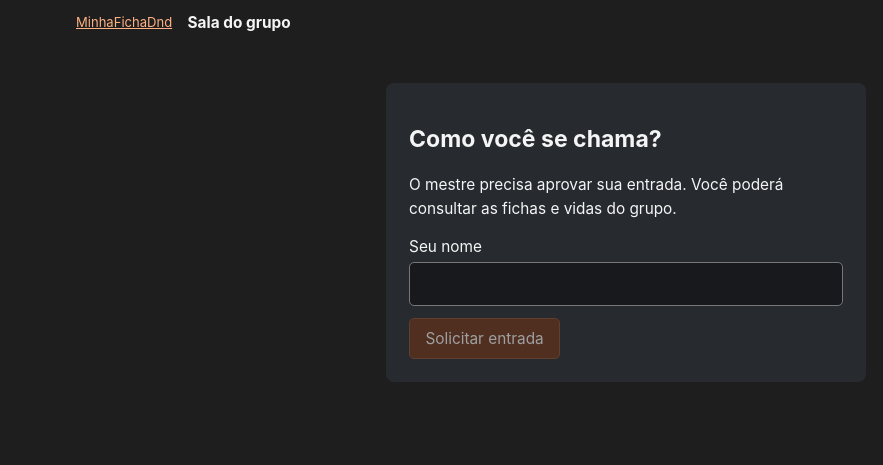
Test: nome cria solicitação; só carrega o grupo após aprovação e limpa após revogação
The width and height of the screenshot is (883, 465).
Later steps or results of the test are not shown.
Step 1. Type "Lia" into the field labelled "Seu nome" → (626, 284), box [409, 262, 843, 306]
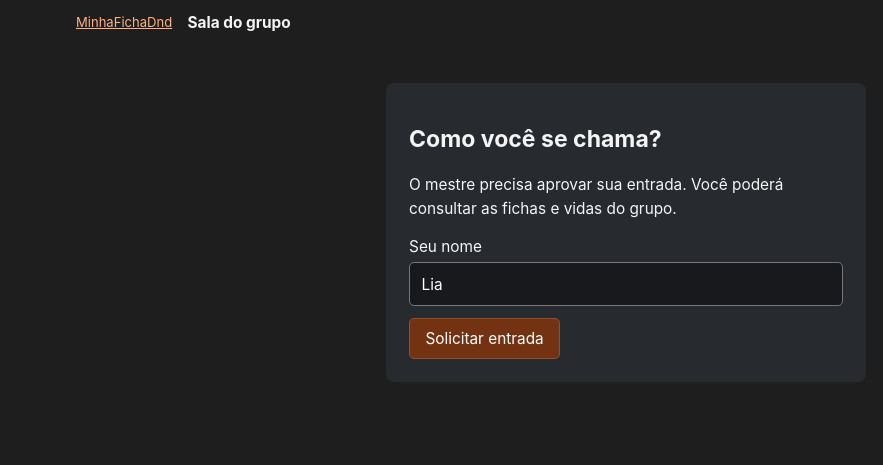
Step 2. Click the button "Solicitar entrada" → (484, 338), box [409, 318, 560, 359]
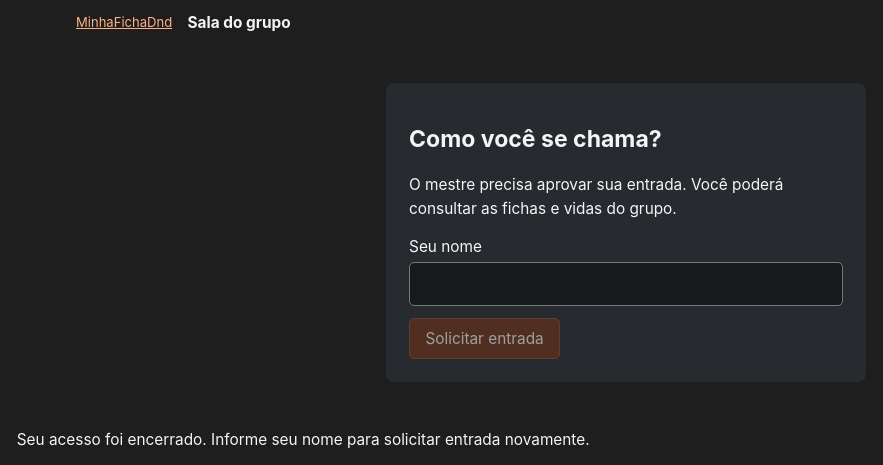
Check: the field labelled "Seu nome" is empty
Step 3. Type "Lia" into the field labelled "Seu nome" → (626, 284), box [409, 262, 843, 306]
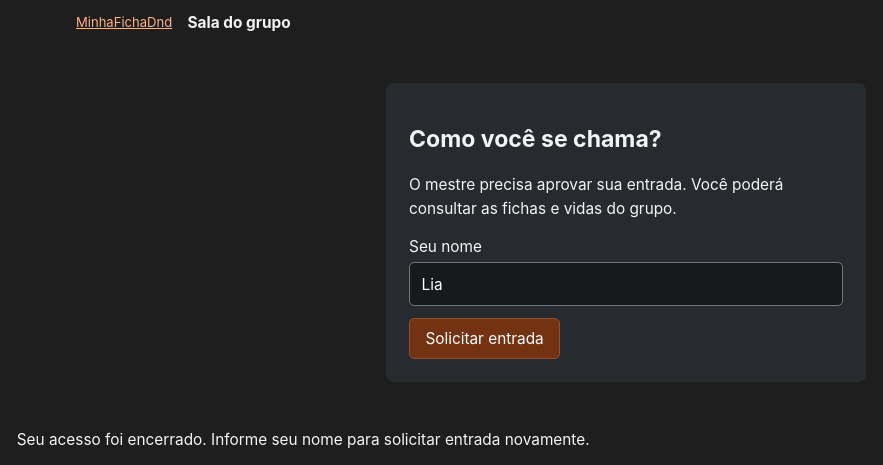
Step 4. Click the button "Solicitar entrada" → (484, 338), box [409, 318, 560, 359]
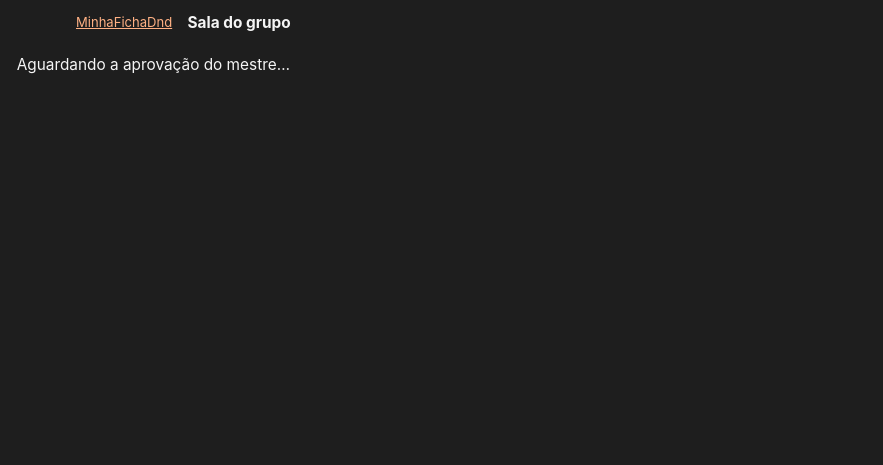
Check: the text "Aguardando a aprovação do mestre…" is shown, box [17, 55, 290, 74]
